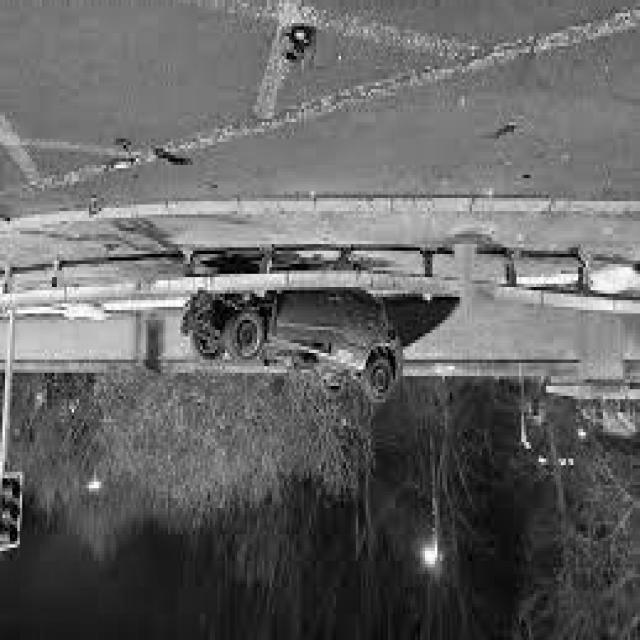severe: (182, 286, 406, 402)
